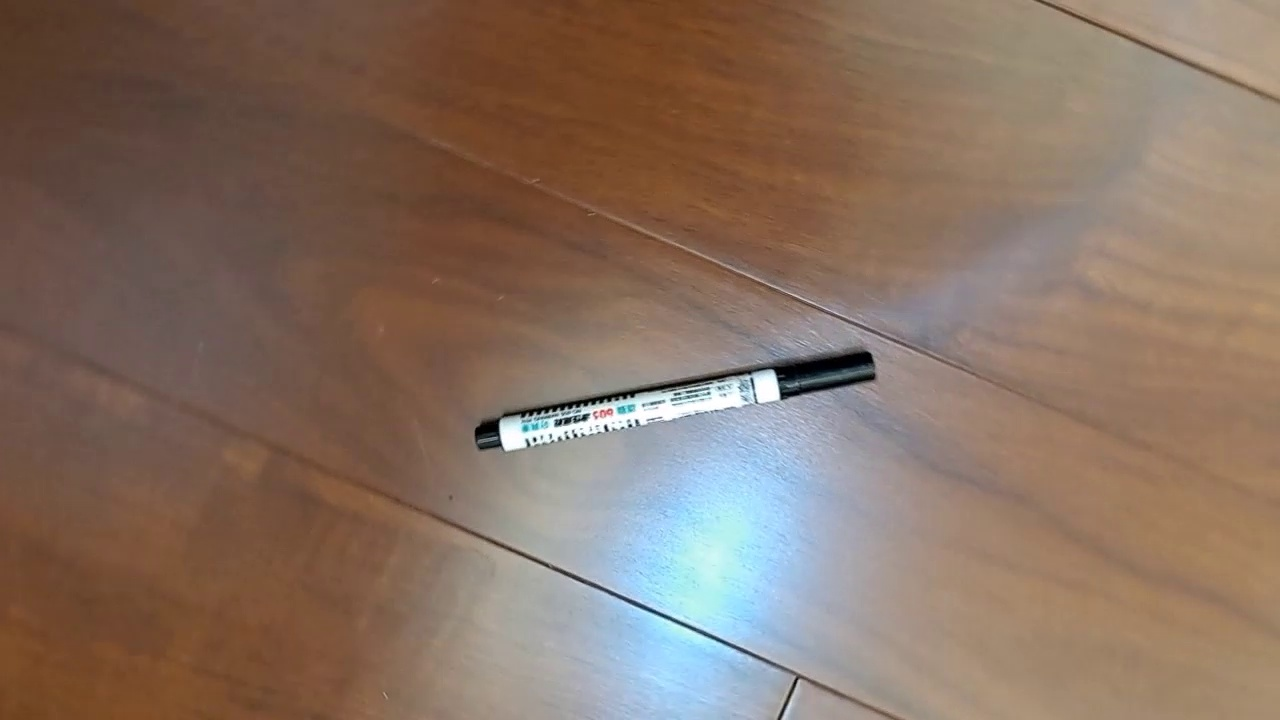pen: (474, 349, 877, 454)
